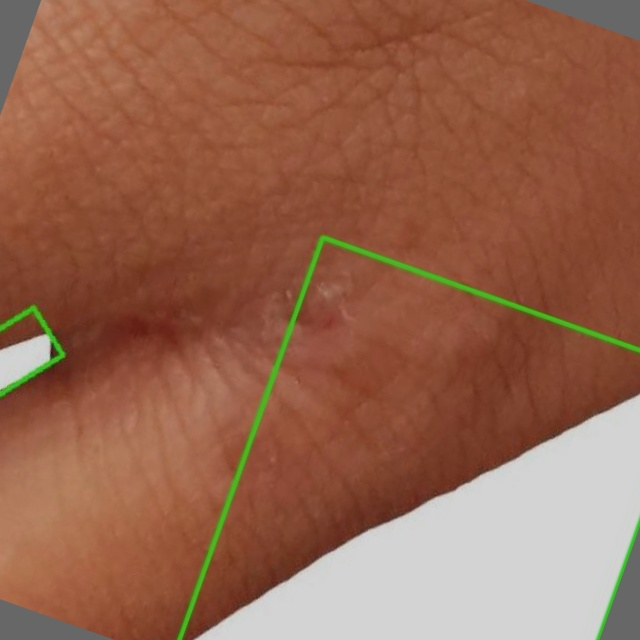Scabies: (179, 237, 639, 639)
